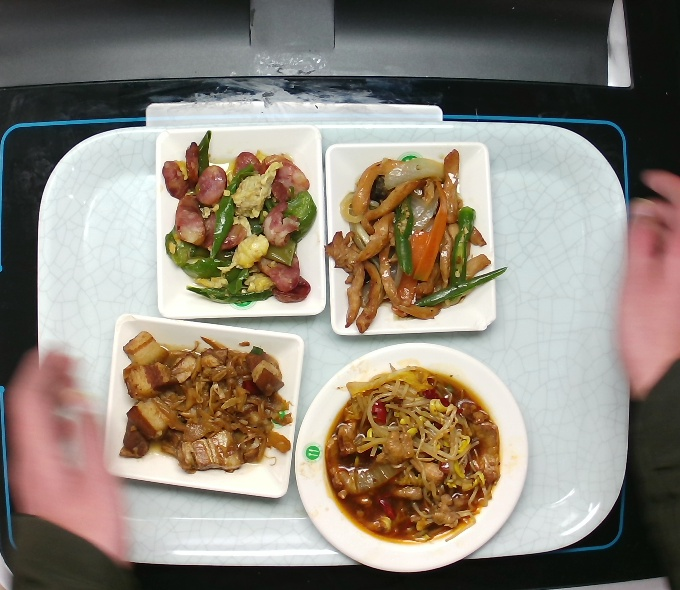wcq-HongShaoRou: (108, 321, 303, 485)
wcq-QingJiaoJiDanChaoDaChang: (154, 126, 322, 308)
wcq-QingJiaoRouSi: (320, 146, 513, 338)
wcq-ShuiZhuRouPian: (314, 355, 516, 556)
